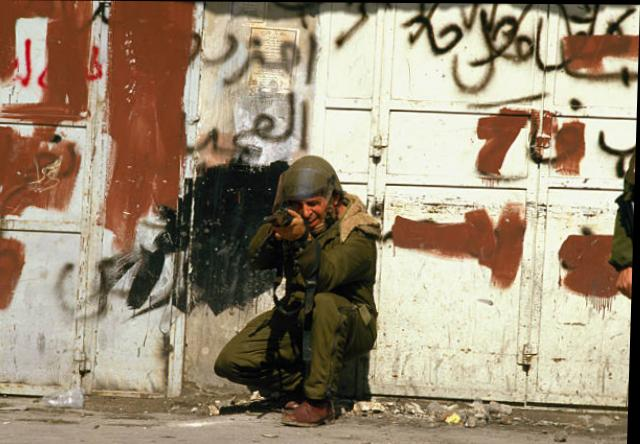other: (234, 163, 382, 410)
